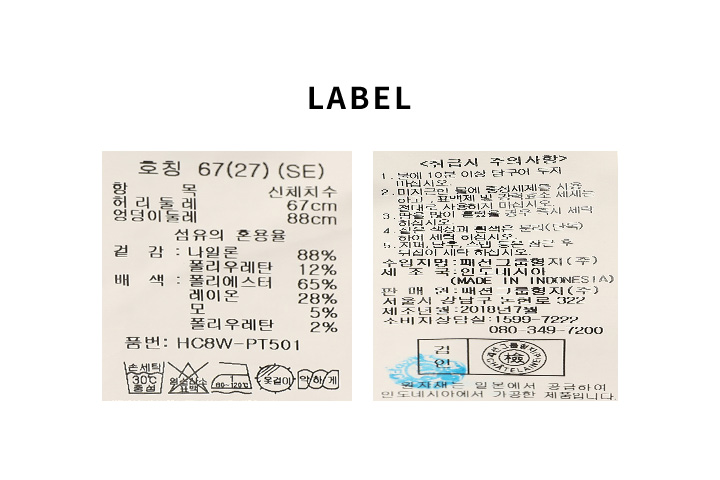KR_gentle_wring: (296, 366, 343, 394)
KR_hand_wash_30_neutral: (122, 356, 166, 399)
KR_hang_dry_in_shade: (255, 360, 296, 396)
KR_iron_low_temp_with_cloth: (210, 359, 254, 397)
KR_no_bleach: (168, 358, 209, 399)
